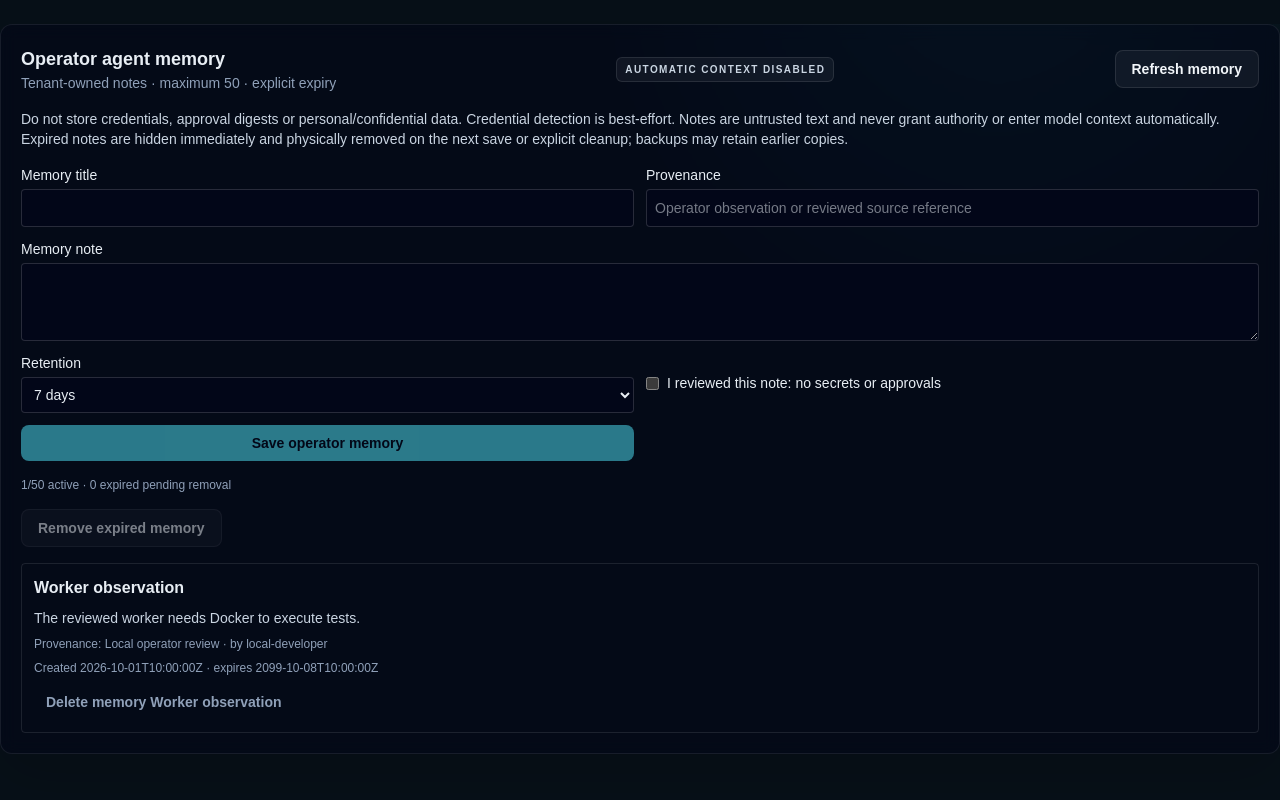
Test: AgentMemoryWorkspace › requires a second deliberate action for permanent deletion
Expected: the heading "Worker observation" is shown, x1=34 y1=579 x2=184 y2=596
Click the button "Delete memory Worker observation" at (164, 702), box x1=34 y1=684 x2=294 y2=720
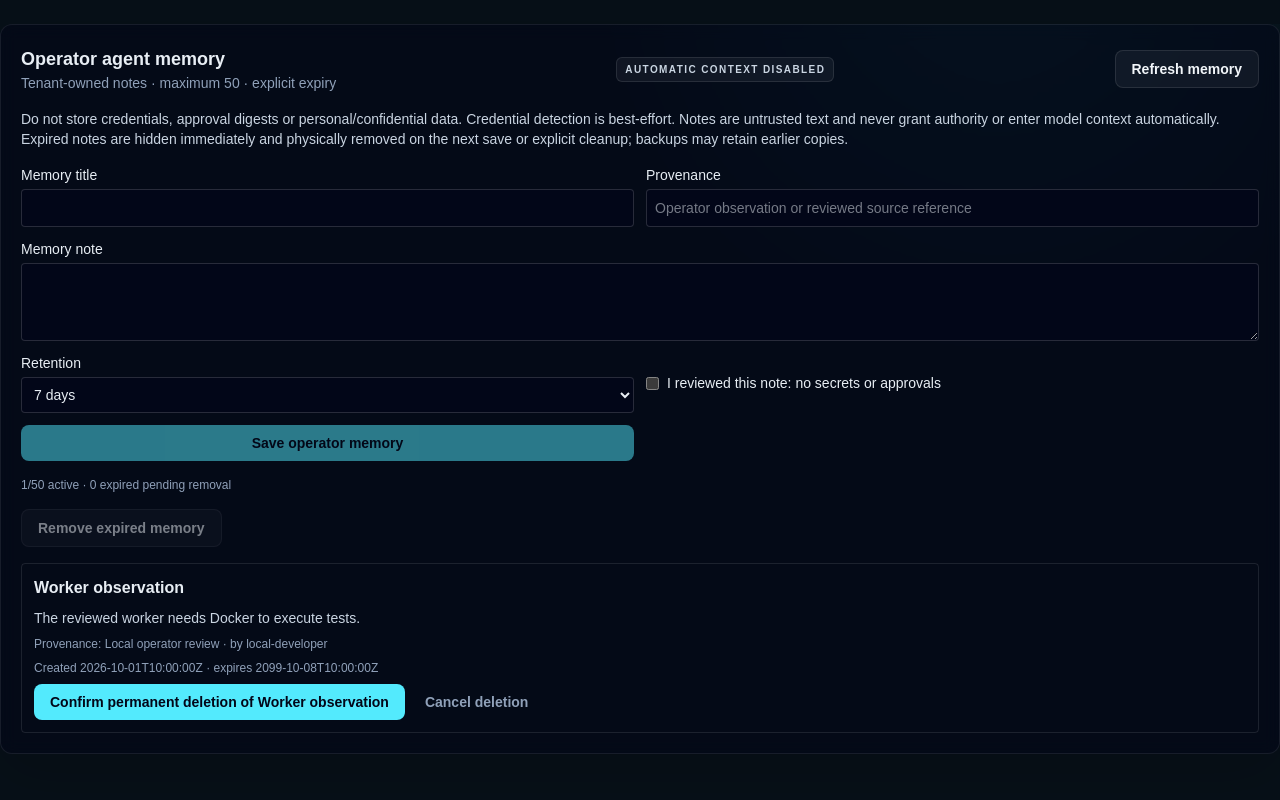
Click the button "Cancel deletion" at (477, 702), box x1=413 y1=684 x2=540 y2=720
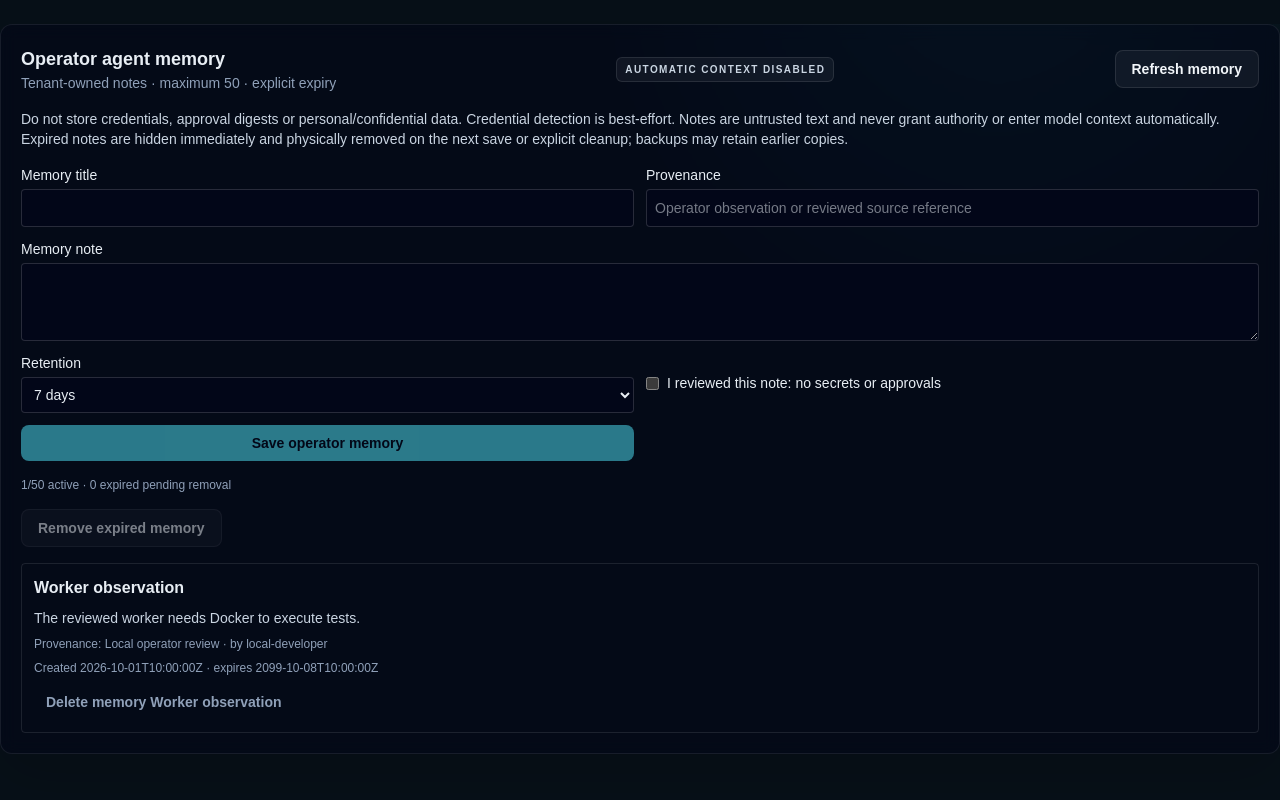
Click the button "Delete memory Worker observation" at (164, 702), box x1=34 y1=684 x2=294 y2=720
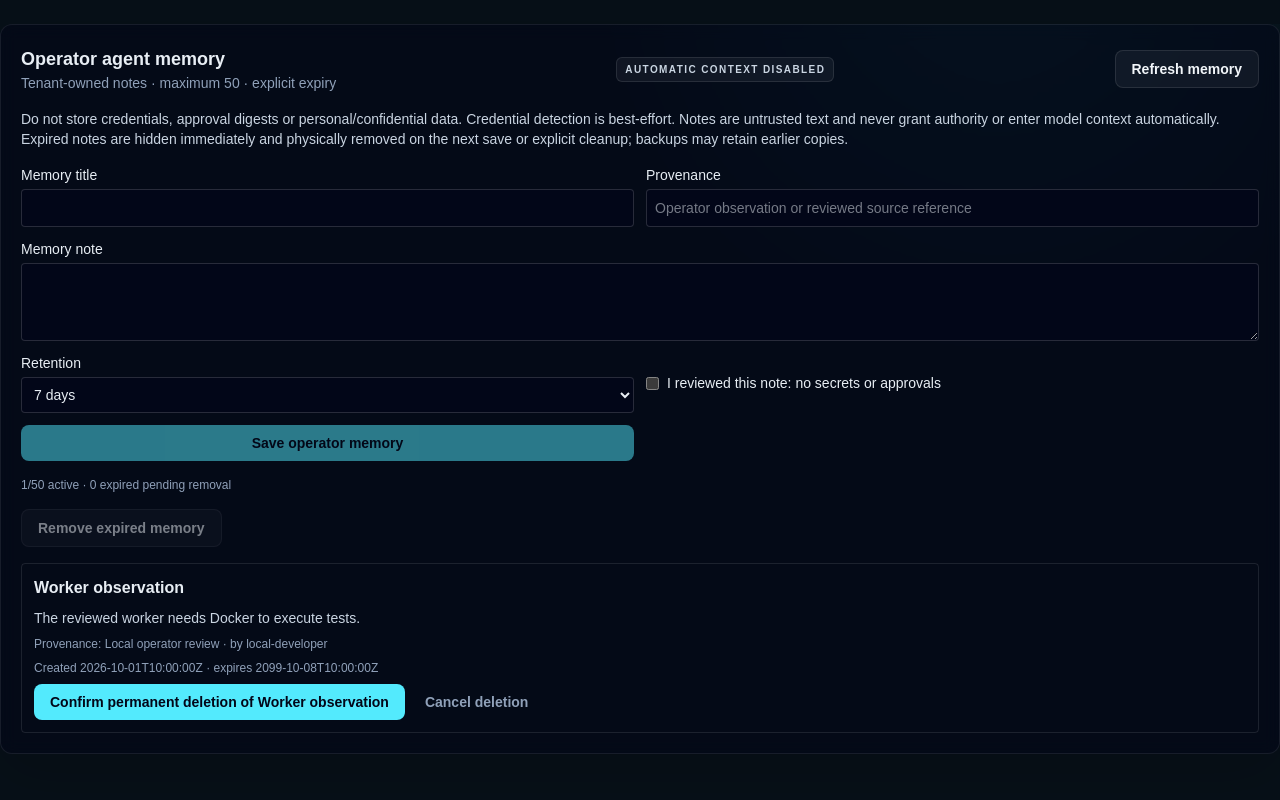
Click the button "Confirm permanent deletion of Worker observation" at (219, 702), box x1=34 y1=684 x2=405 y2=720
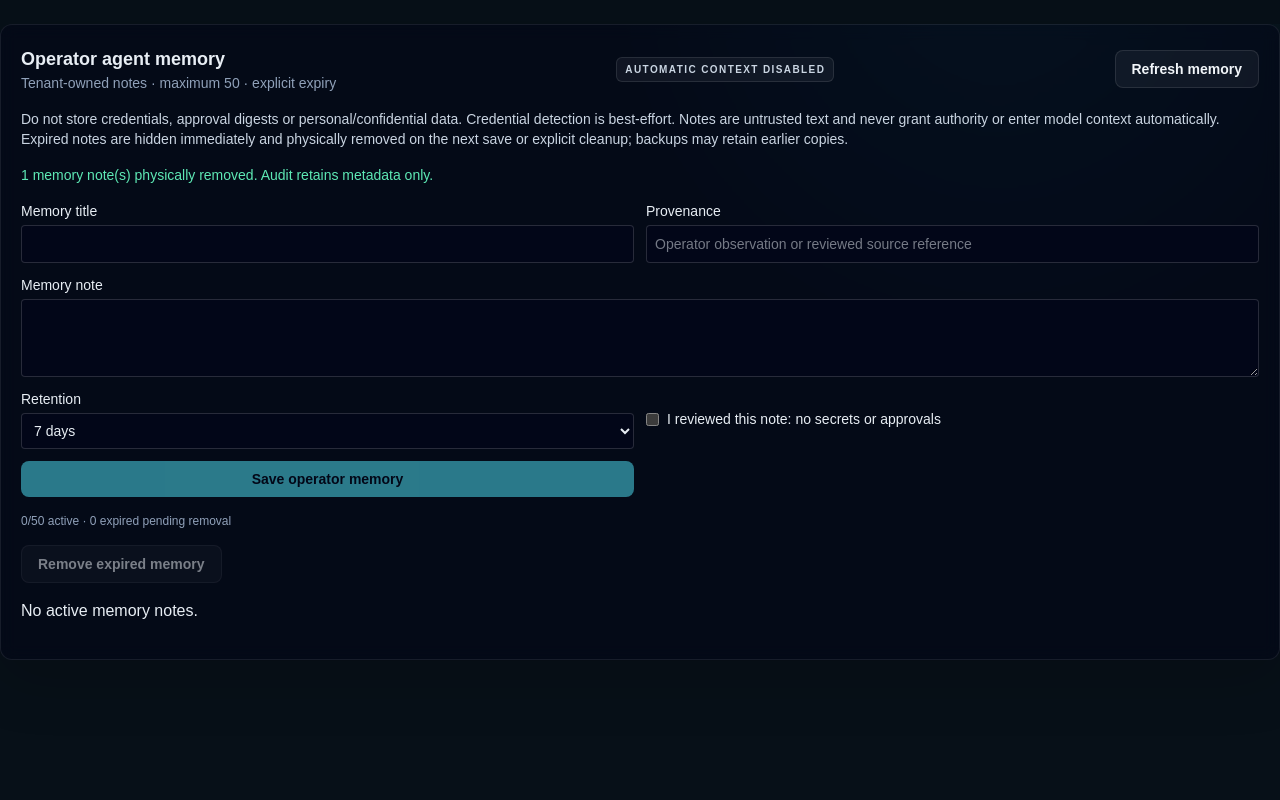
Now the text "No active memory notes." is shown, box x1=21 y1=602 x2=198 y2=619
